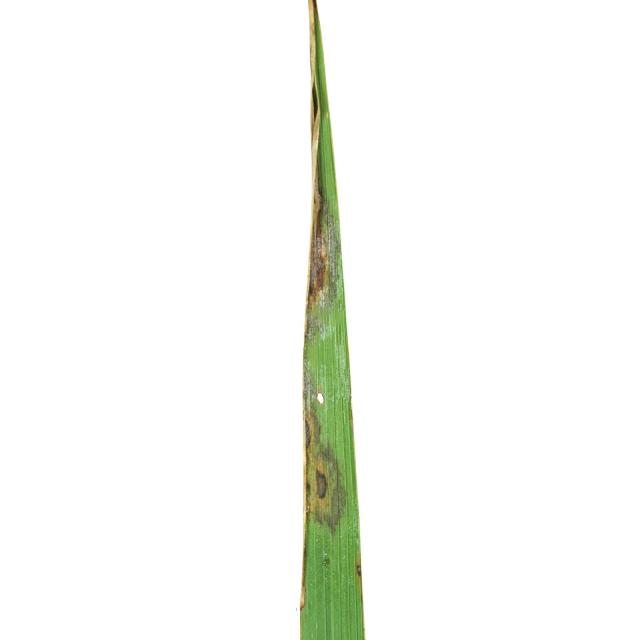Leaf scald: (269, 0, 462, 640)
